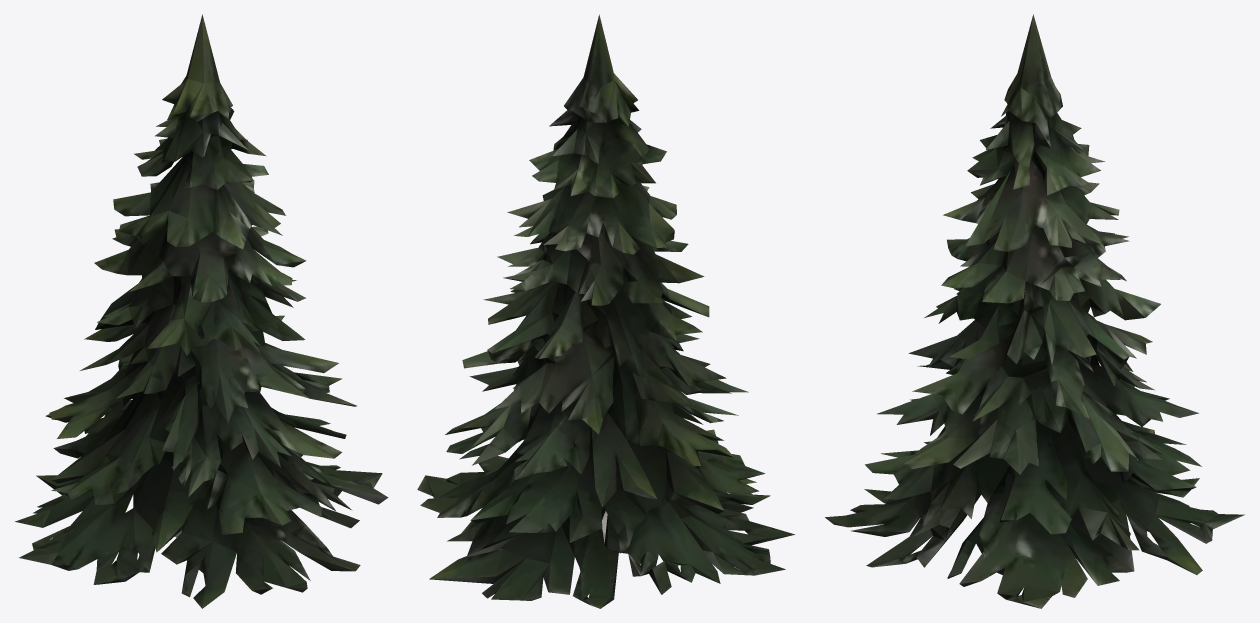
The model's file is tree-2.glb.
The picture shows the model from 3 angles, left to right: view 1: azimuth 30°, elevation 25°; view 2: azimuth 150°, elevation 25°; view 3: azimuth 270°, elevation 25°; orthographic projection. The views are drawn at different scales.
Visible parts, largest first — view 1: geometry_0; view 2: geometry_0; view 3: geometry_0.
Part boxes in pixels (x1,y1,x2,y2): geometry_0: (15,14,388,608); geometry_0: (417,14,794,608); geometry_0: (825,14,1244,608).
Size of the model in its own units: 0.729 by 1.01 by 0.7354.
1 material, 1 textured.
